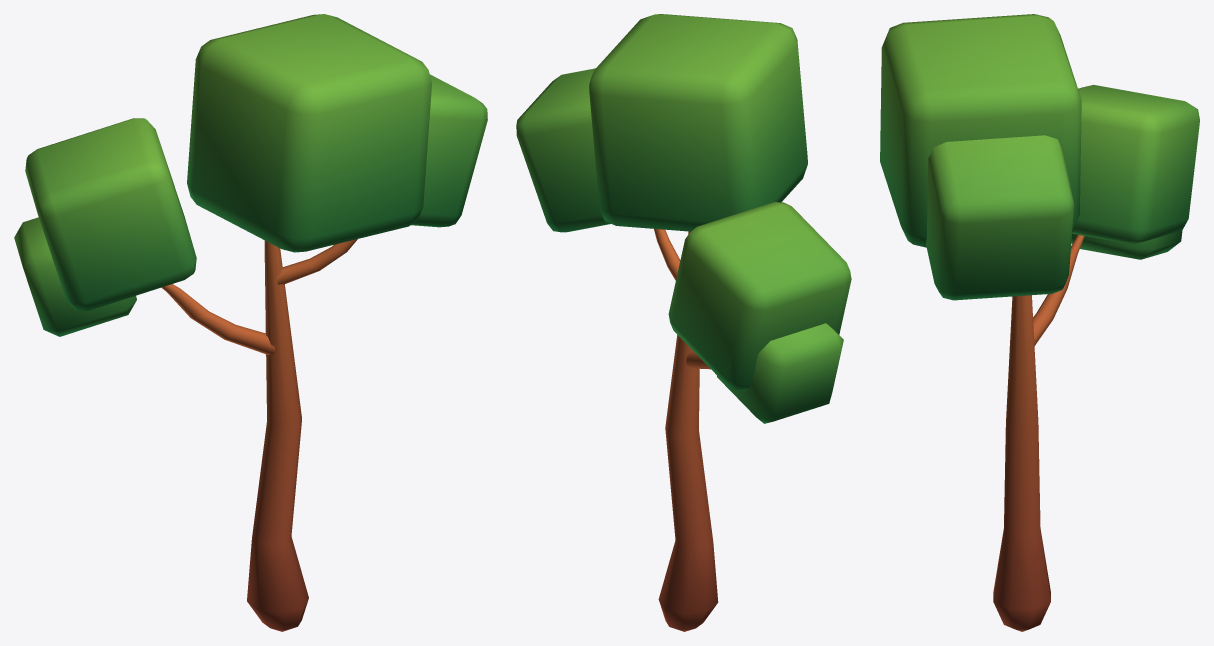
The model's file is Tree_2_C.glb.
3 renders of one model, left to right at view 1: azimuth 30°, elevation 25°; view 2: azimuth 150°, elevation 25°; view 3: azimuth 270°, elevation 25°, orthographic. The views are drawn at different scales.
Parts seen in each view (by area): view 1: Tree_2_C_Color1; view 2: Tree_2_C_Color1; view 3: Tree_2_C_Color1.
Part boxes in pixels (x1=…): Tree_2_C_Color1: x1=14, y1=14, x2=487, y2=631; Tree_2_C_Color1: x1=516, y1=14, x2=851, y2=631; Tree_2_C_Color1: x1=880, y1=14, x2=1199, y2=631.
Size of the model in its own units: 4.6 by 6.92 by 3.4.
Materials: 1 (1 with a texture image).
